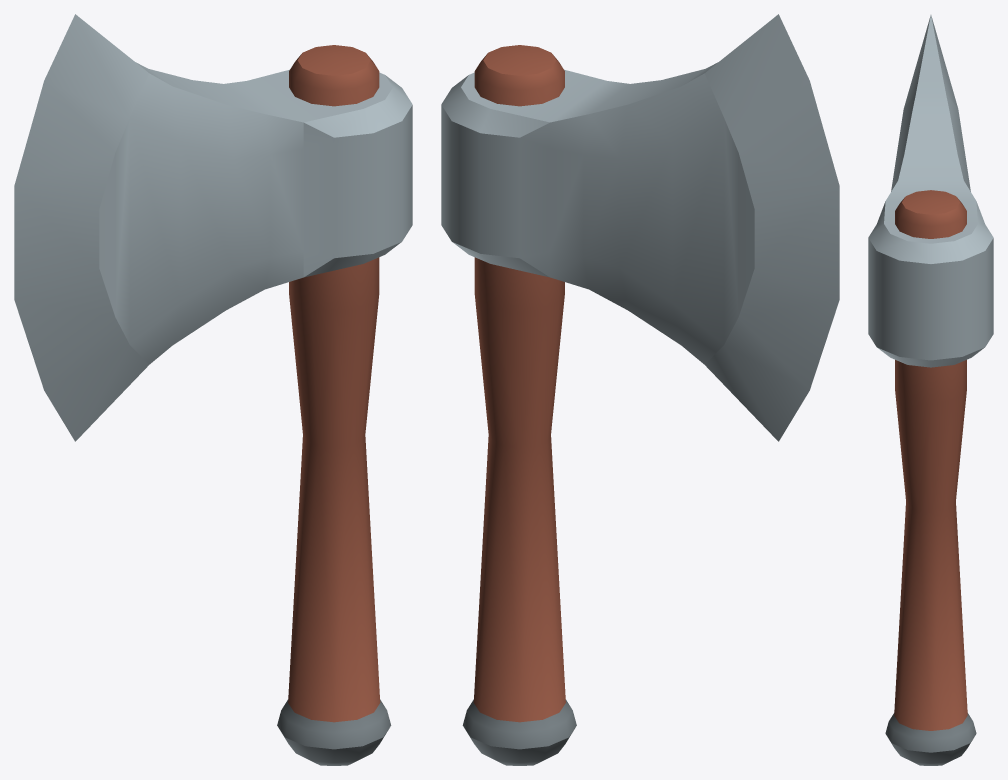
Rendered from axe_uncommon.dae.
The picture shows the model from 3 angles, left to right: view 1: azimuth 30°, elevation 25°; view 2: azimuth 150°, elevation 25°; view 3: azimuth 270°, elevation 25°; orthographic projection. The views are drawn at different scales.
Parts seen in each view (by area): view 1: axe_uncommon; view 2: axe_uncommon; view 3: axe_uncommon.
Boxes of the visible parts, left/top/right/bottom form: axe_uncommon: left=14, top=14, right=412, bottom=765; axe_uncommon: left=441, top=14, right=839, bottom=765; axe_uncommon: left=868, top=15, right=993, bottom=765.
Bounding box in the file's own units: 0.4806 × 0.1686 × 0.9528.
